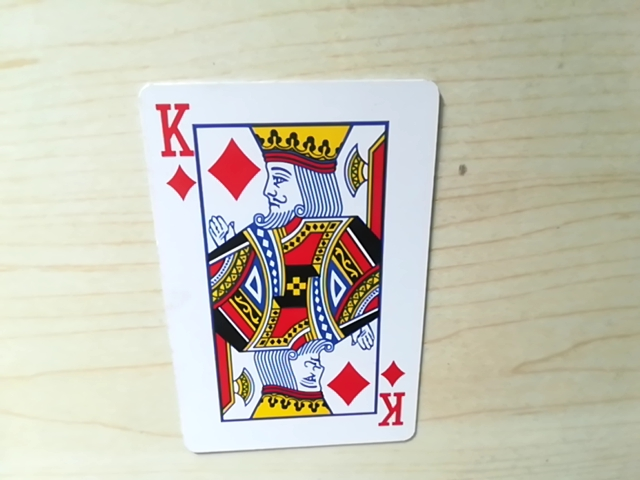fk k: (149, 97, 198, 148), (370, 373, 412, 432)
